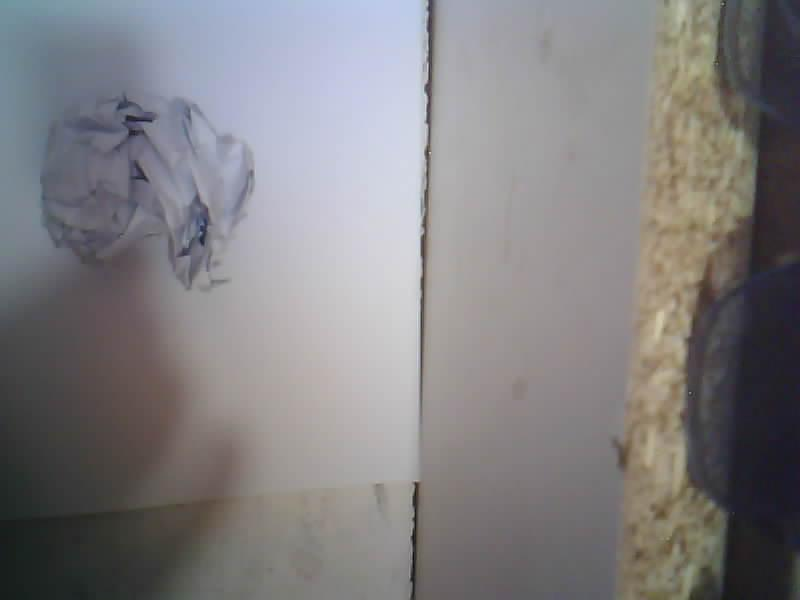biodegradable: (41, 93, 254, 289)
